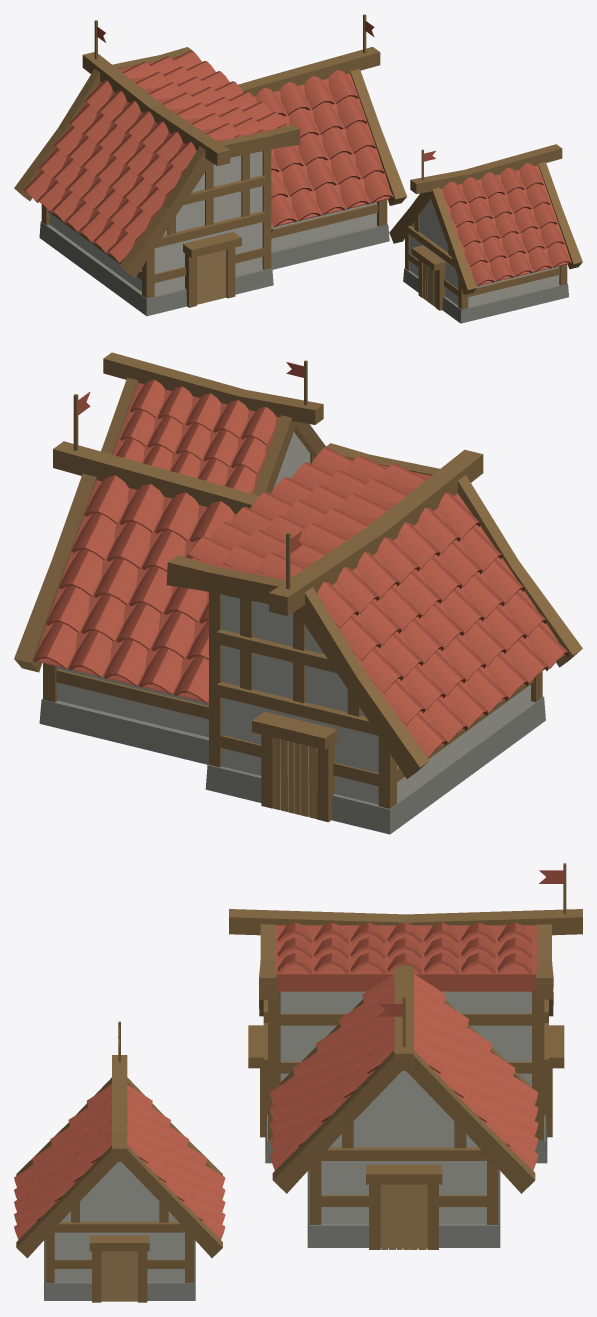
File: quaternius-real-time-strategy-pack-houses-second-age-2-level3.glb
3 renders of one model, top to bottom at view 1: azimuth 30°, elevation 25°; view 2: azimuth 150°, elevation 25°; view 3: azimuth 270°, elevation 25°, orthographic. The views are drawn at different scales.
Visible parts, largest first — view 1: Houses_SecondAge_2_Level3; view 2: Houses_SecondAge_2_Level3; view 3: Houses_SecondAge_2_Level3.
Boxes of the visible parts, x1,y1,x2,y2 form: Houses_SecondAge_2_Level3: (14,14,582,323); Houses_SecondAge_2_Level3: (14,352,582,834); Houses_SecondAge_2_Level3: (14,863,582,1302).
Bounding box in the file's own units: 1.92 × 0.9536 × 1.88.
